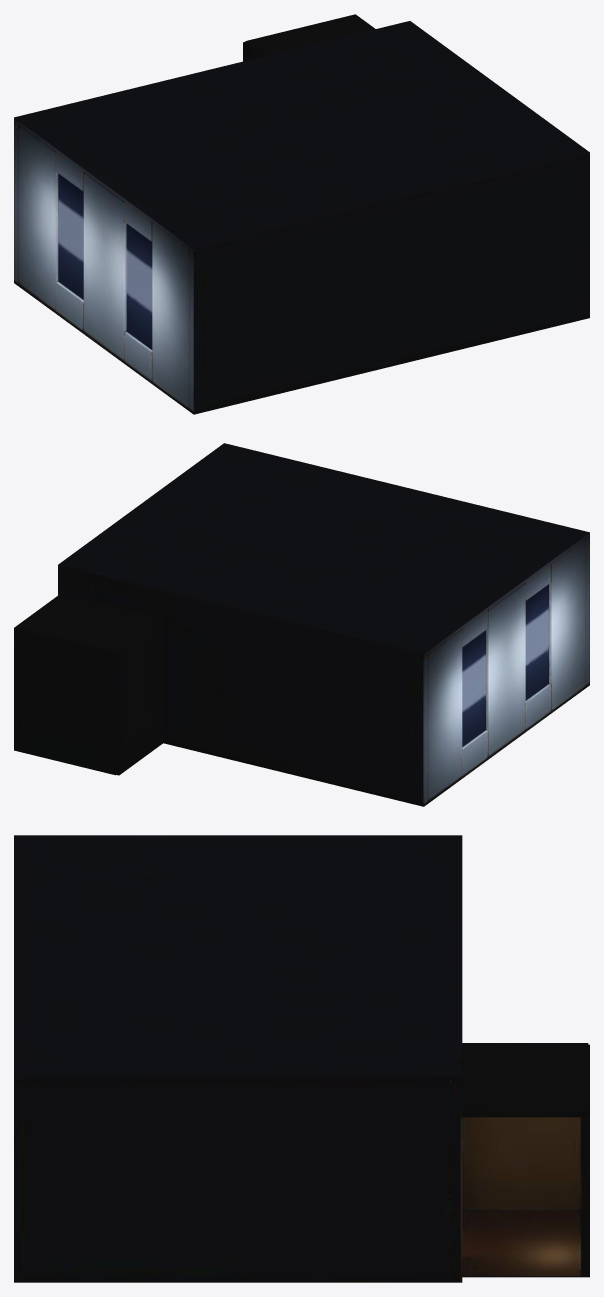
Rendered from room.gltf.
3 views of the same model, one above another, from view 1: azimuth 30°, elevation 25°; view 2: azimuth 150°, elevation 25°; view 3: azimuth 270°, elevation 25° (orthographic). The views are drawn at different scales.
Parts seen in each view (by area): view 1: MESH_walls, MESH_ceiling, MESH_glass, MESH_passage, MESH_floor; view 2: MESH_ceiling, MESH_walls, MESH_passage, MESH_glass, MESH_floor; view 3: MESH_ceiling, MESH_walls, MESH_passage, MESH_floor.
Part boxes in pixels (x1,y1,x2,y2): MESH_walls: (14, 121, 589, 411); MESH_ceiling: (14, 21, 589, 252); MESH_glass: (58, 173, 152, 349); MESH_passage: (243, 14, 375, 61); MESH_floor: (14, 280, 589, 414); MESH_ceiling: (58, 443, 589, 656); MESH_walls: (58, 536, 589, 804); MESH_passage: (14, 593, 165, 775); MESH_glass: (462, 584, 548, 746); MESH_floor: (163, 683, 589, 806); MESH_ceiling: (14, 835, 462, 1080); MESH_walls: (14, 1080, 462, 1279); MESH_passage: (462, 1043, 589, 1277); MESH_floor: (14, 1211, 587, 1282).
Size of what is drawn, in the model's own units: 9.36 by 3.77 by 9.45.
Materials: 35 (35 with a texture image).
